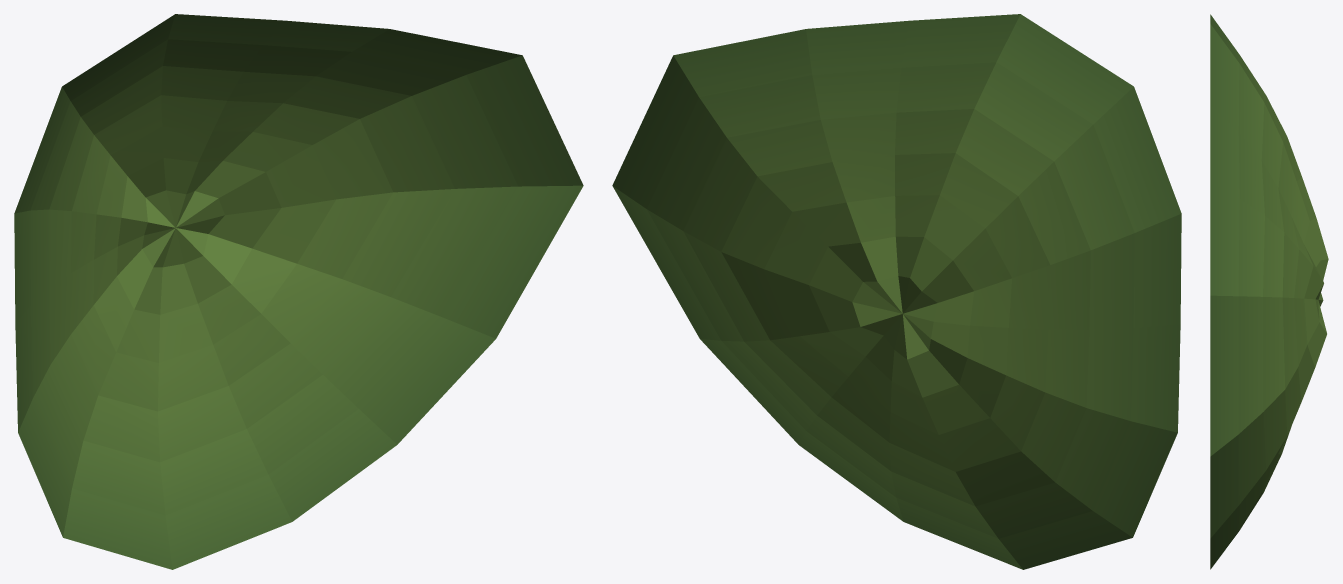
The model's file is hill_b.glb.
3 renders of one model, left to right at view 1: azimuth 30°, elevation 25°; view 2: azimuth 150°, elevation 25°; view 3: azimuth 270°, elevation 25°, orthographic. The views are drawn at different scales.
Visible parts, largest first — view 1: hill_b; view 2: hill_b; view 3: hill_b.
Part boxes in pixels (left/top/right/bottom): hill_b: left=14, top=14, right=583, bottom=569; hill_b: left=612, top=14, right=1181, bottom=569; hill_b: left=1210, top=14, right=1328, bottom=569.
Bounding box in the file's own units: 2.24 × 2.09 × 0.438.
